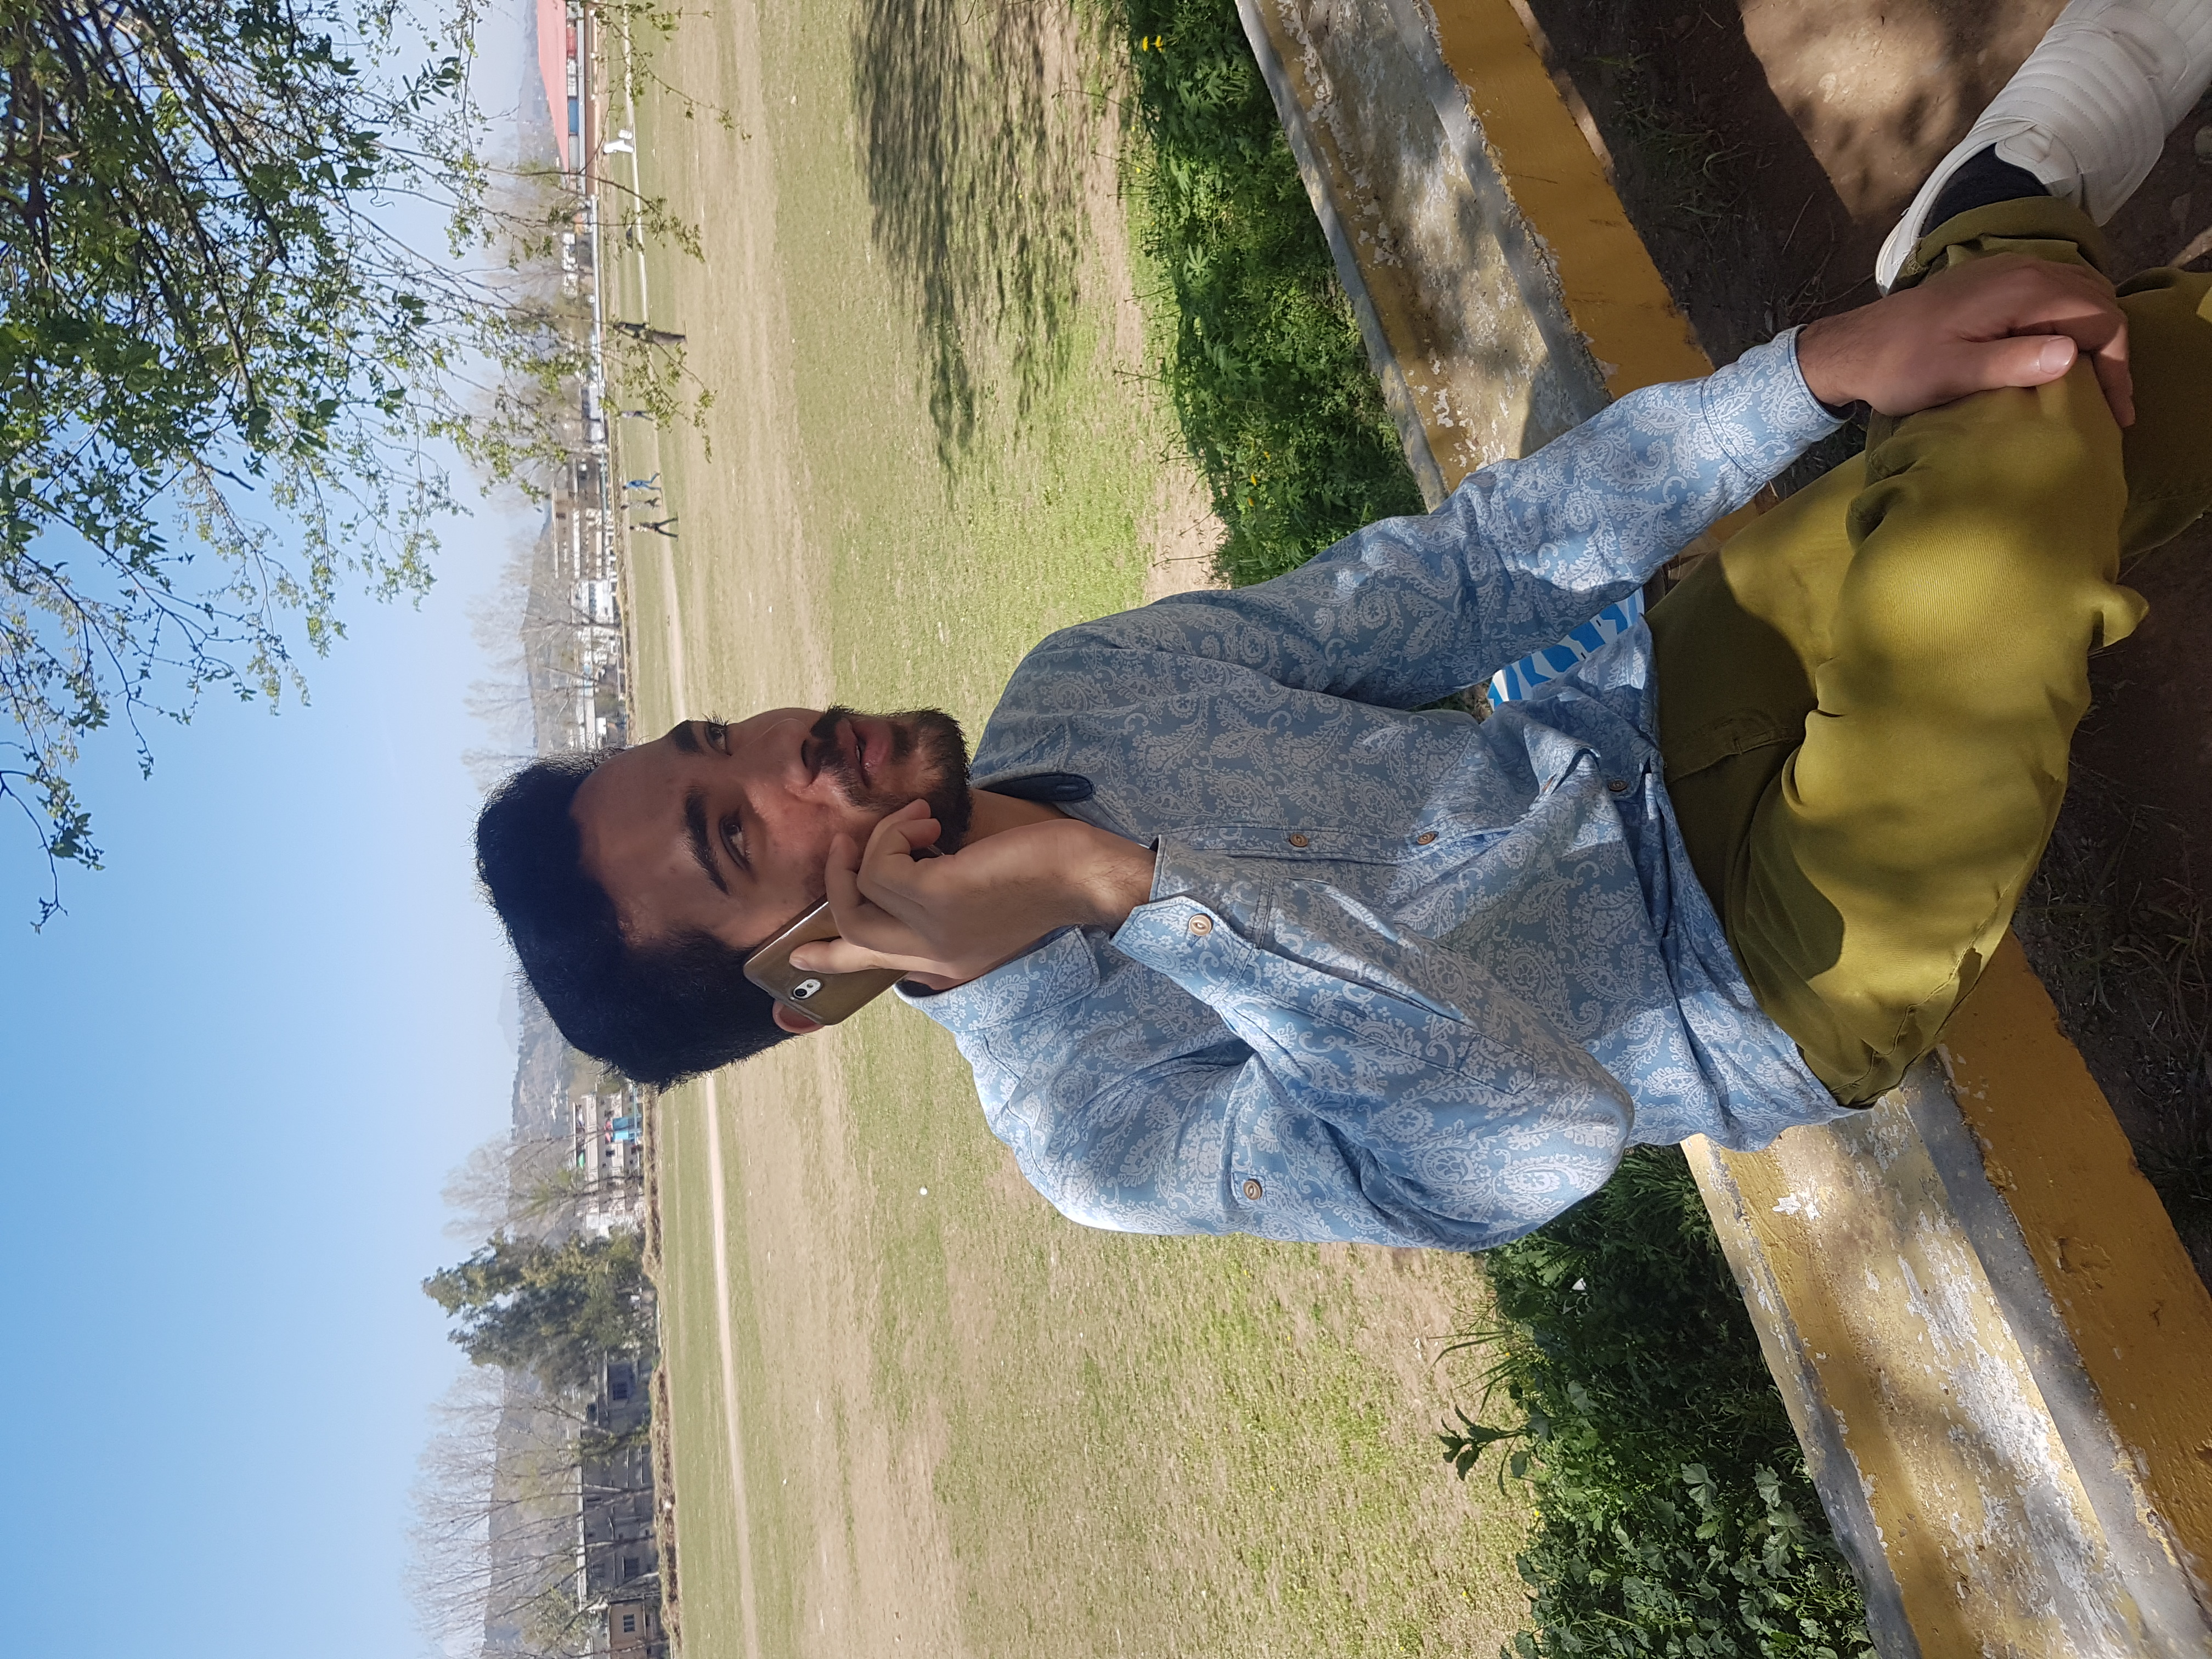face: (490, 696, 998, 917)
mobile: (738, 916, 907, 1013)
